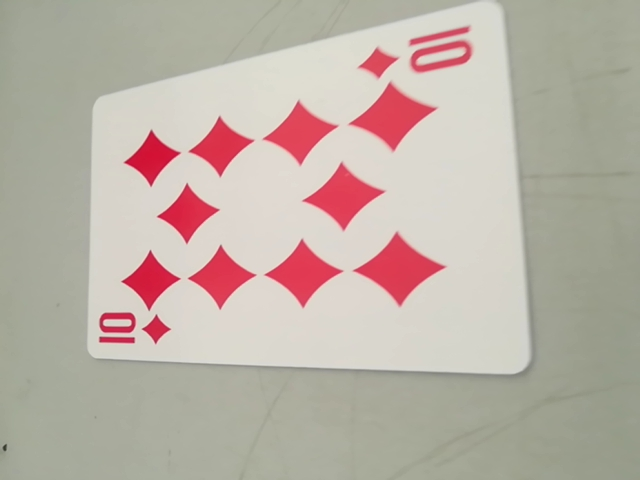fk 10: (360, 19, 485, 88), (92, 307, 176, 357)
